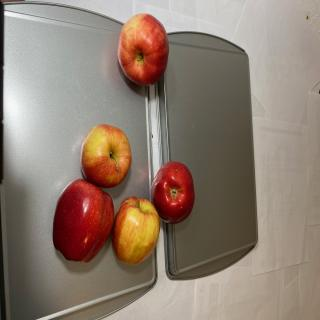Apple: (52, 178, 114, 264), (117, 13, 169, 86), (112, 196, 160, 266), (80, 124, 132, 188), (150, 161, 195, 224)
